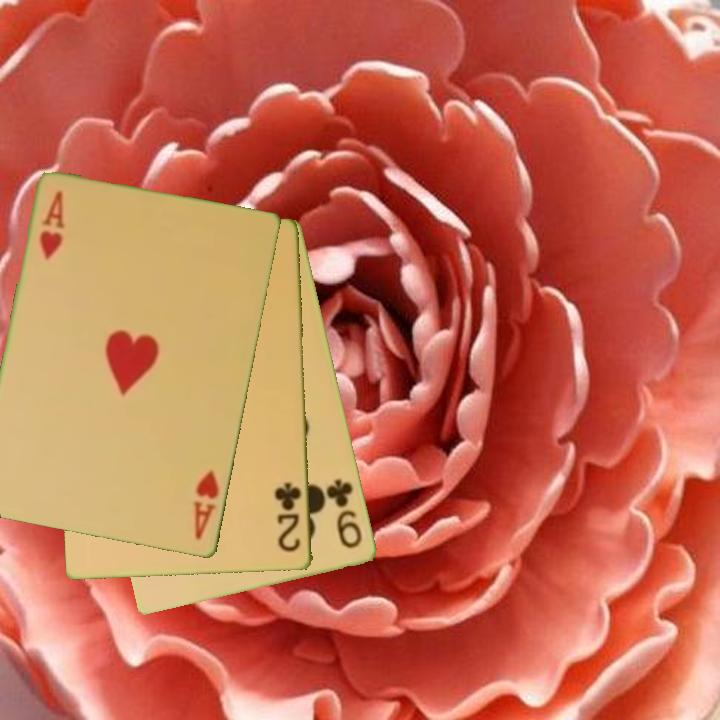2c: (272, 479, 305, 555)
9c: (324, 476, 366, 552)
Ah: (190, 467, 222, 543), (36, 187, 67, 264)
